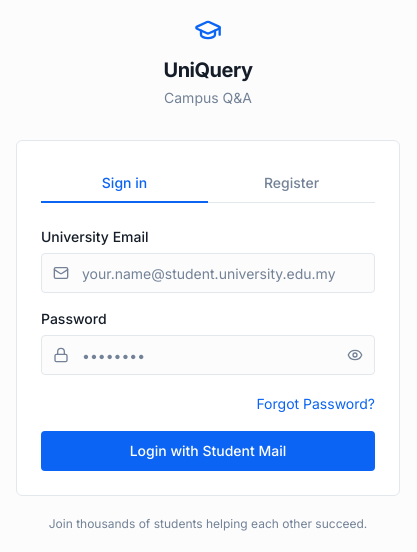
Smoke Test — AuthPage Component › should toggle to register mode when Register tab is clicked
The image size is (417, 552).
Click the button "Register" at (292, 184), box [208,165,375,203]
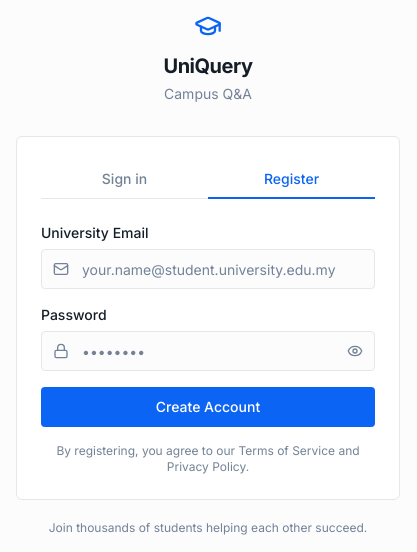
Check: the button "Create Account" is shown, box [41,387,375,427]
